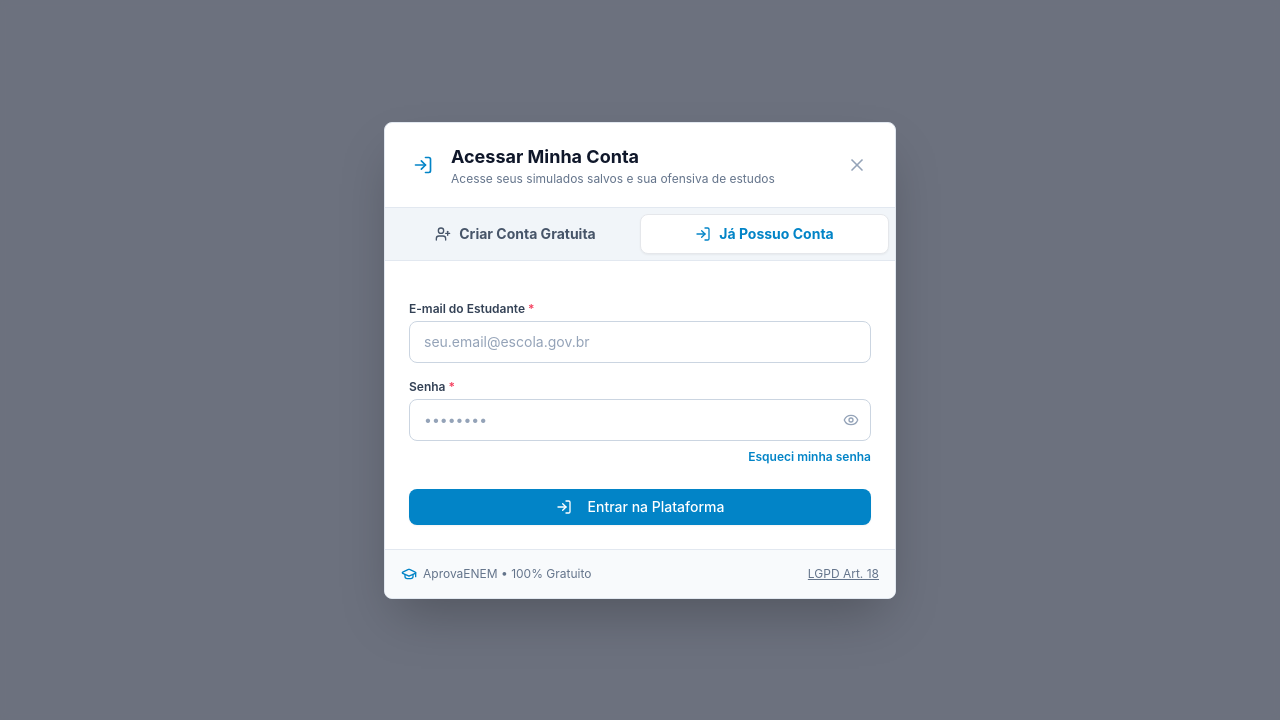
Test case: RegisterModal Component › should validate and handle login flow successfully
The image size is (1280, 720).
Submit with empty email
Click the button "Entrar na Plataforma" at (640, 506), box [409,488,871,524]
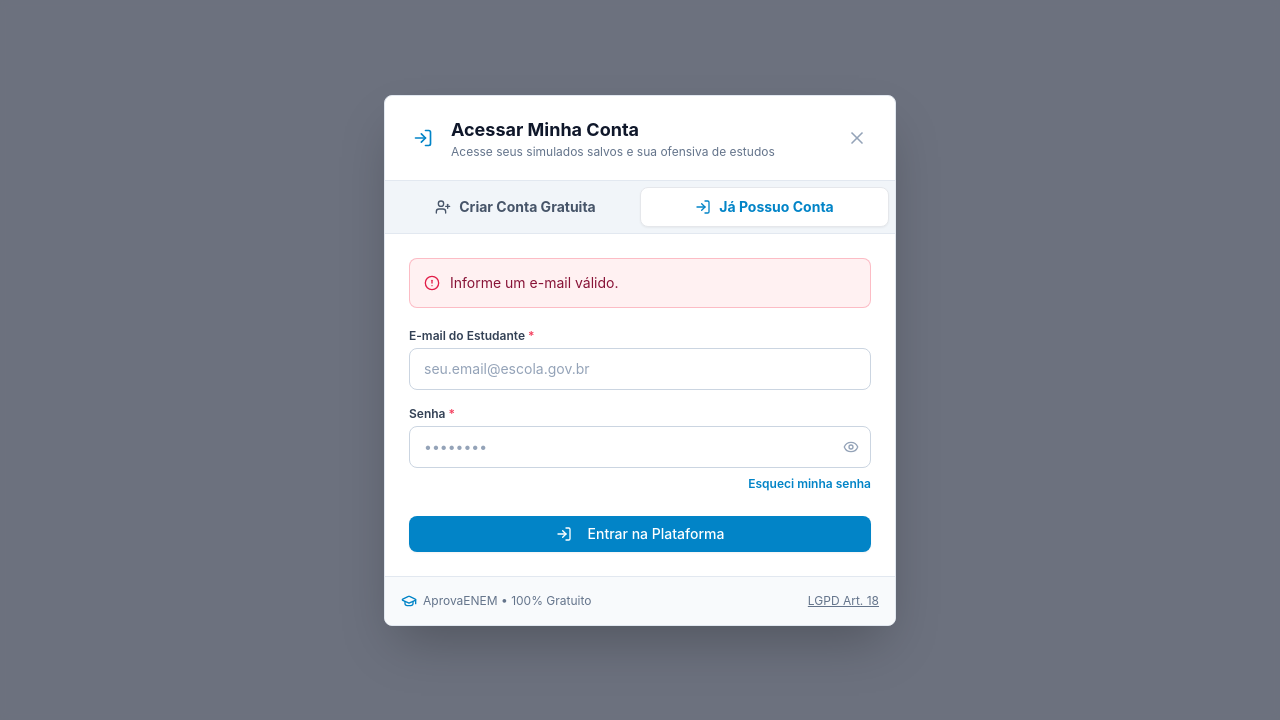
expect the text "Informe um e-mail válido." is shown: met, box [450,272,618,292]
Fill valid email but empty password
Type "lucas@escola.gov.br" into the field labelled "E-mail do Estudante *" at (640, 368), box [409,348,871,390]
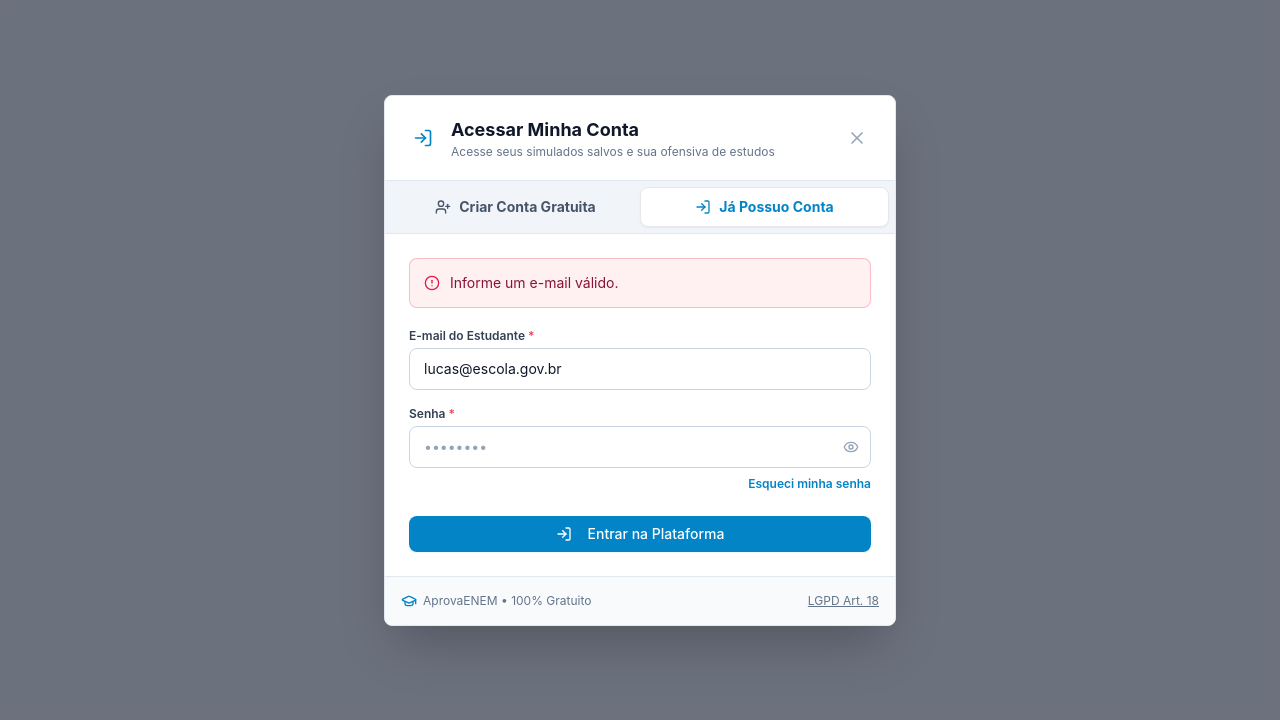
Click the button "Entrar na Plataforma" at (640, 534), box [409,516,871,552]
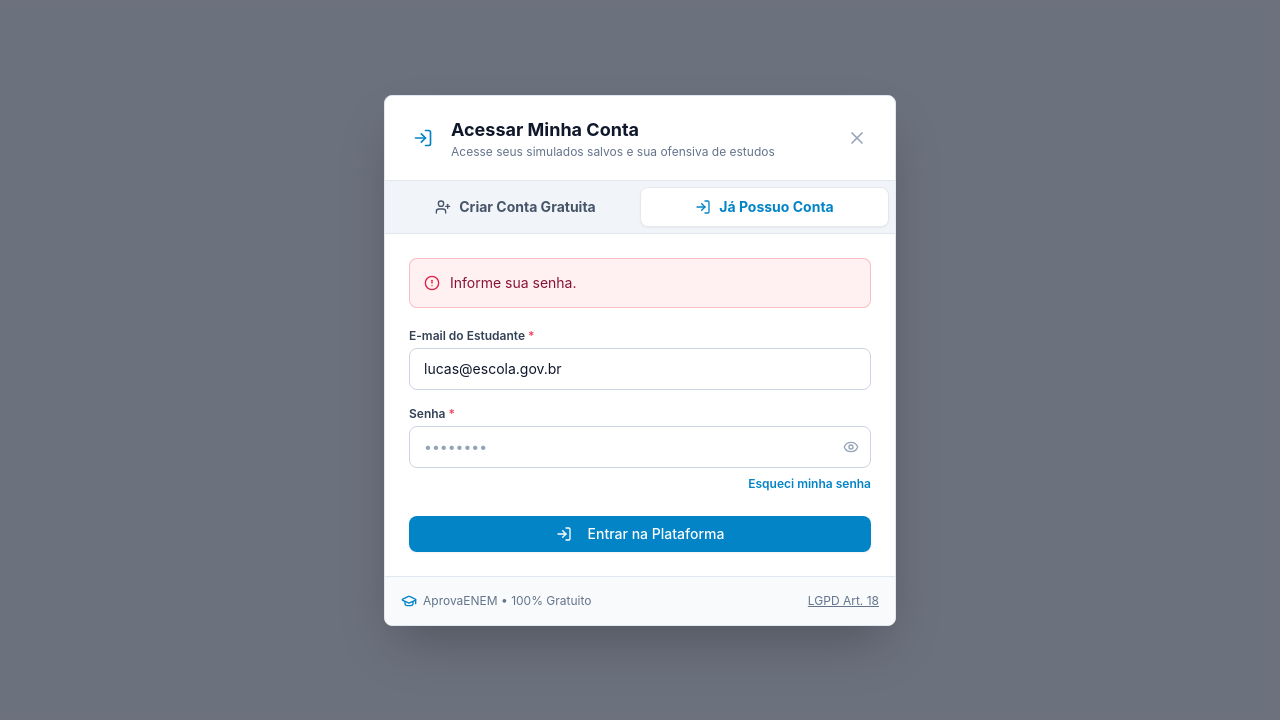
expect the text "Informe sua senha." is shown: met, box [450,272,576,292]
Fill password and submit
Type "password123" into the password field labelled "Senha *" at (640, 446), box [409,426,871,468]
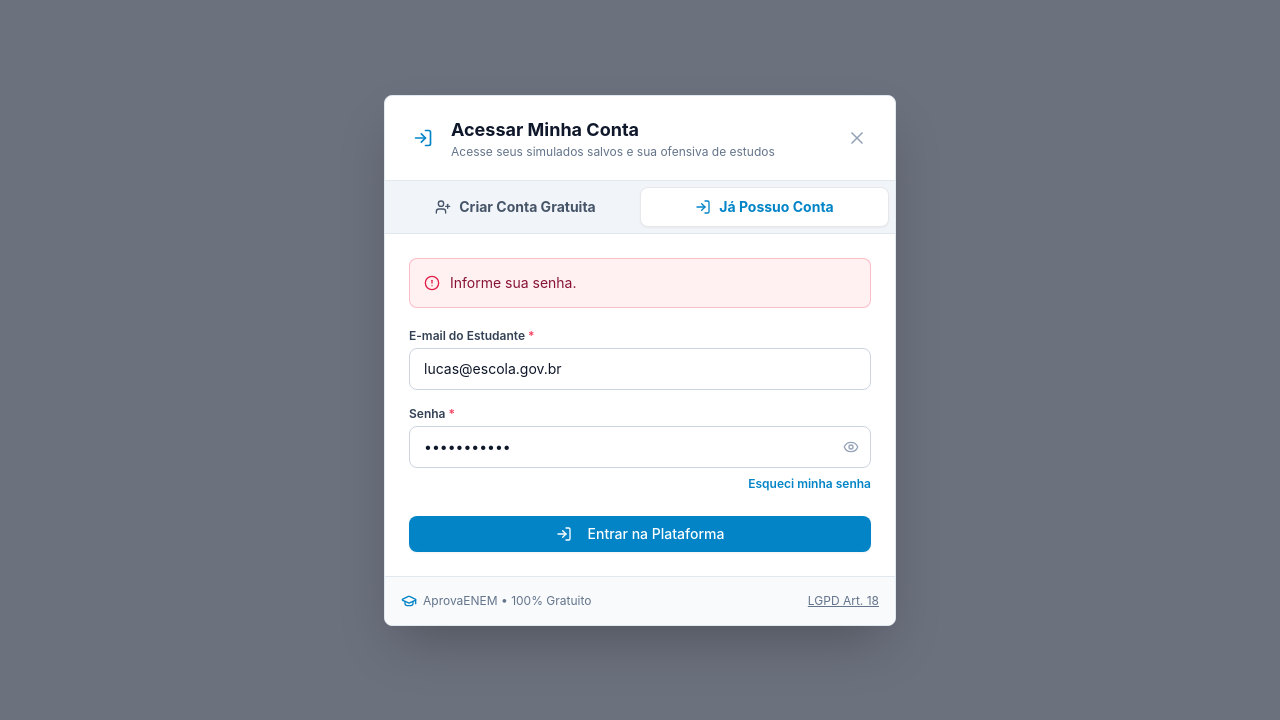
Click the button "Entrar na Plataforma" at (640, 534), box [409,516,871,552]
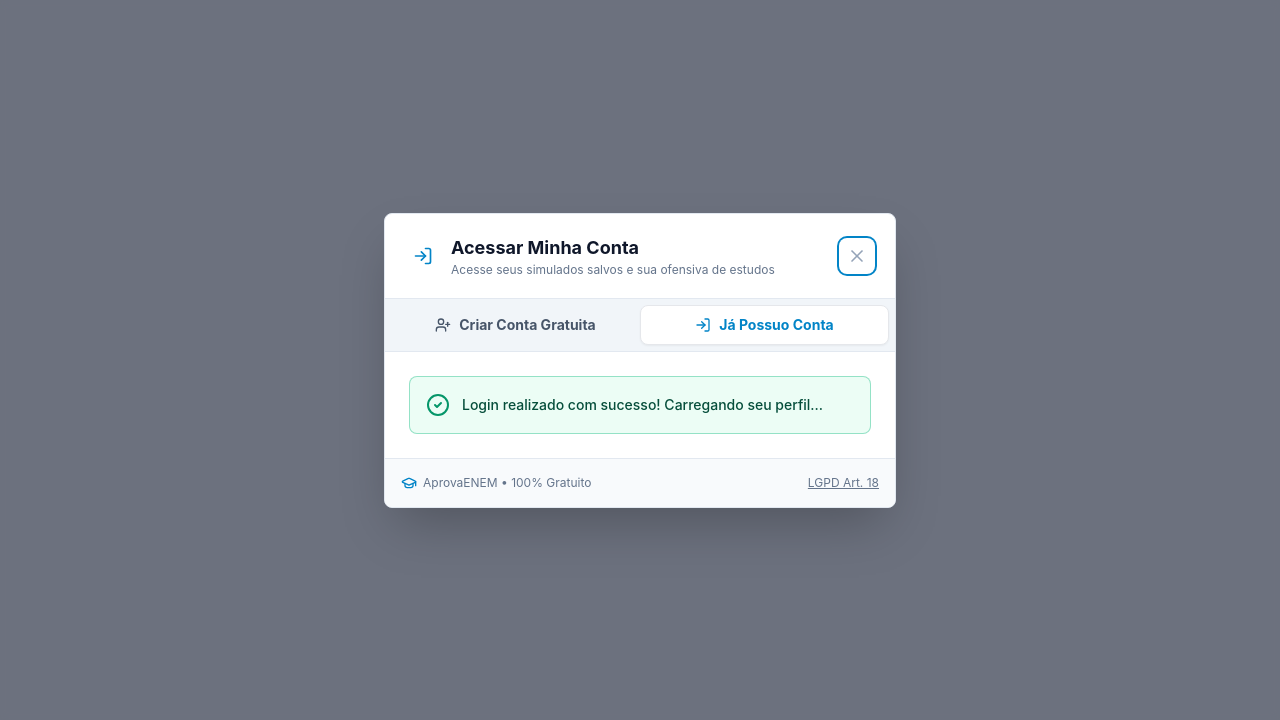
expect the text "Login realizado com sucesso! Carregando seu perfil..." is shown: met, box [462,394,823,414]
